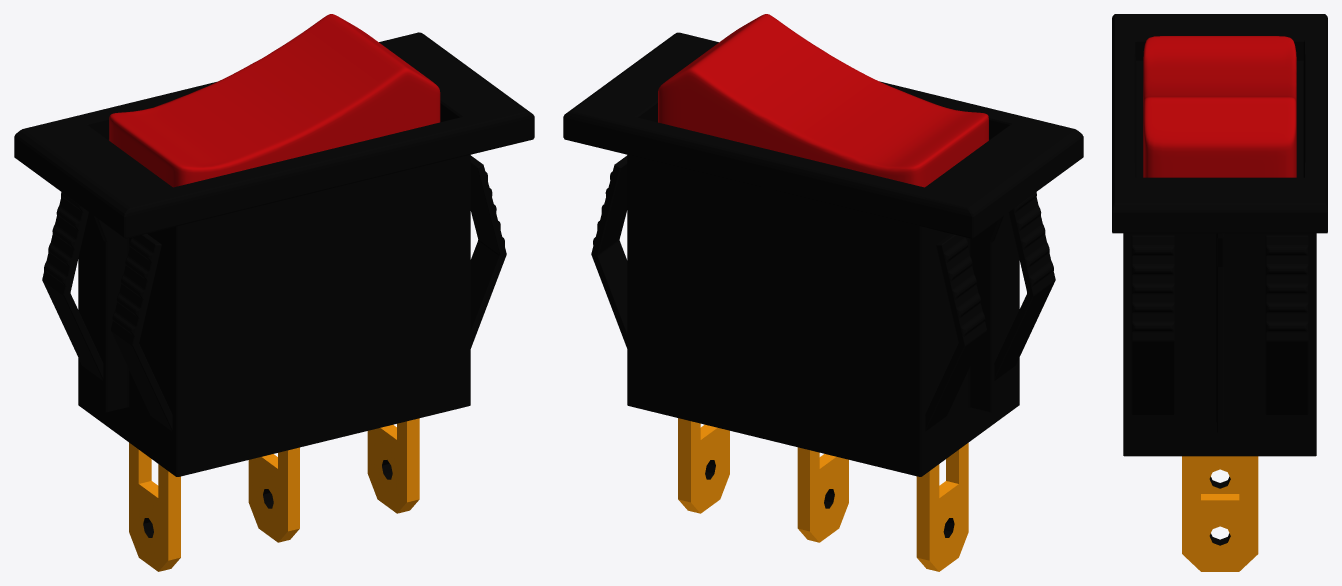
The model's file is interruptor.glb.
3 renders of one model, left to right at view 1: azimuth 30°, elevation 25°; view 2: azimuth 150°, elevation 25°; view 3: azimuth 270°, elevation 25°, orthographic. The views are drawn at different scales.
Visible parts, largest first — view 1: Interruptor_0; view 2: Interruptor_0; view 3: Interruptor_0.
Boxes of the visible parts, x1,y1,x2,y2 form: Interruptor_0: [14, 14, 534, 571]; Interruptor_0: [563, 14, 1083, 571]; Interruptor_0: [1112, 14, 1327, 571].
Bounding box in the file's own units: 0.03 × 0.0328 × 0.014.
